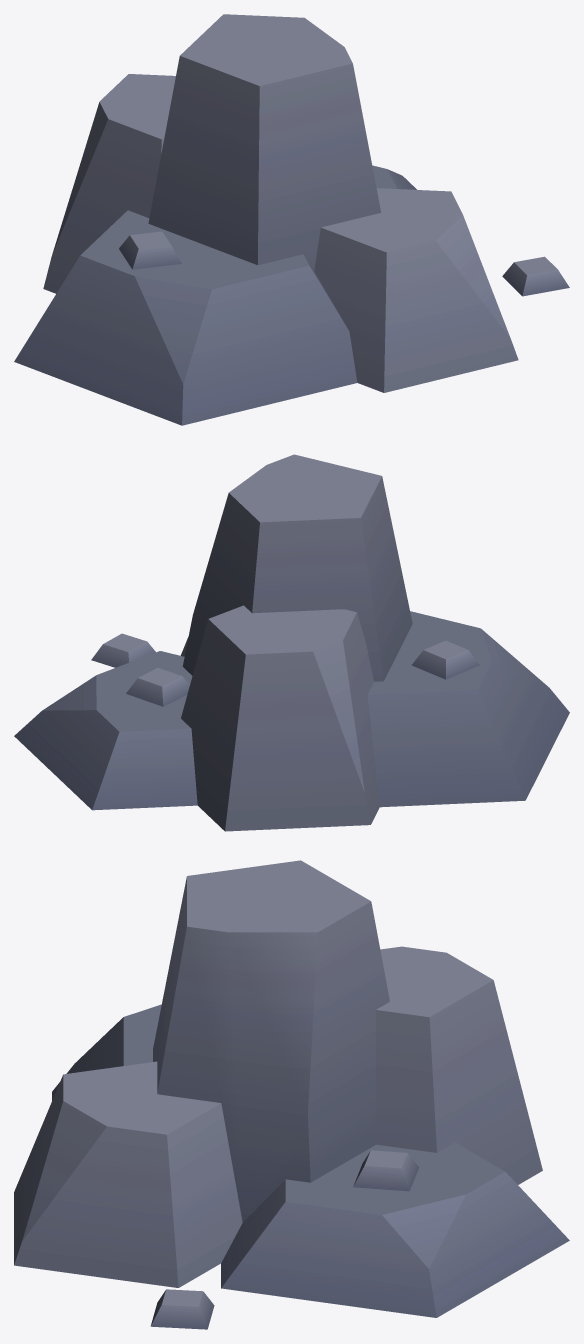
File: rock-b.glb
The picture shows the model from 3 angles, top to bottom: view 1: azimuth 30°, elevation 25°; view 2: azimuth 150°, elevation 25°; view 3: azimuth 270°, elevation 25°; orthographic projection. The views are drawn at different scales.
Visible parts, largest first — view 1: rock-b; view 2: rock-b; view 3: rock-b.
Part boxes in pixels (left/top/right/bottom): rock-b: left=14, top=14, right=569, bottom=425; rock-b: left=14, top=454, right=569, bottom=831; rock-b: left=14, top=860, right=569, bottom=1329.
Size of the model in its own units: 0.8346 by 0.4186 by 0.7247.
1 material, 1 textured.
